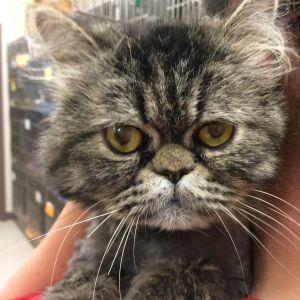persian: (27, 1, 300, 252)
